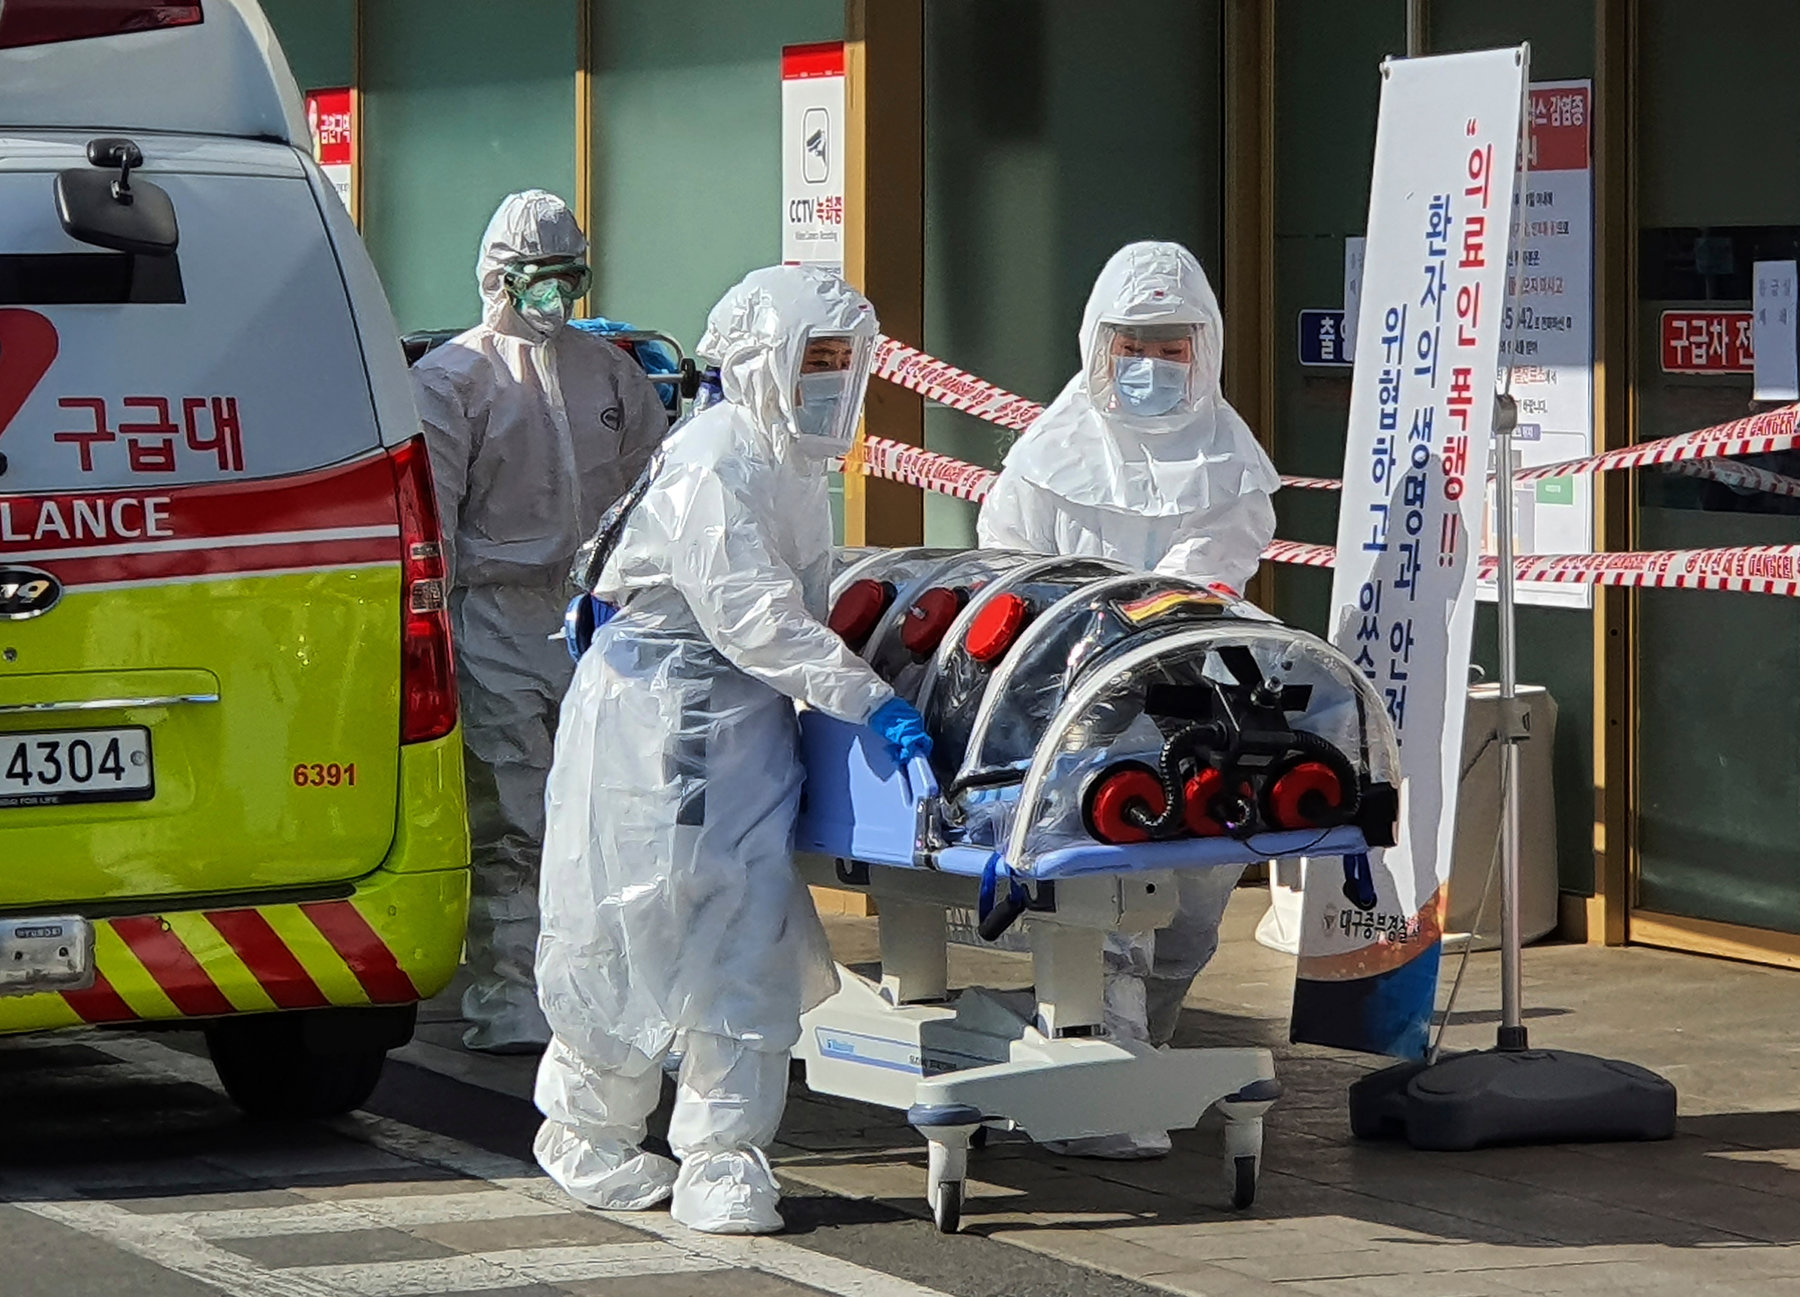Coverall: (537, 263, 878, 1158), (446, 184, 620, 979), (970, 210, 1278, 608)
Gloves: (862, 694, 933, 766)
with_mask: (782, 355, 875, 443), (1110, 336, 1197, 426)
